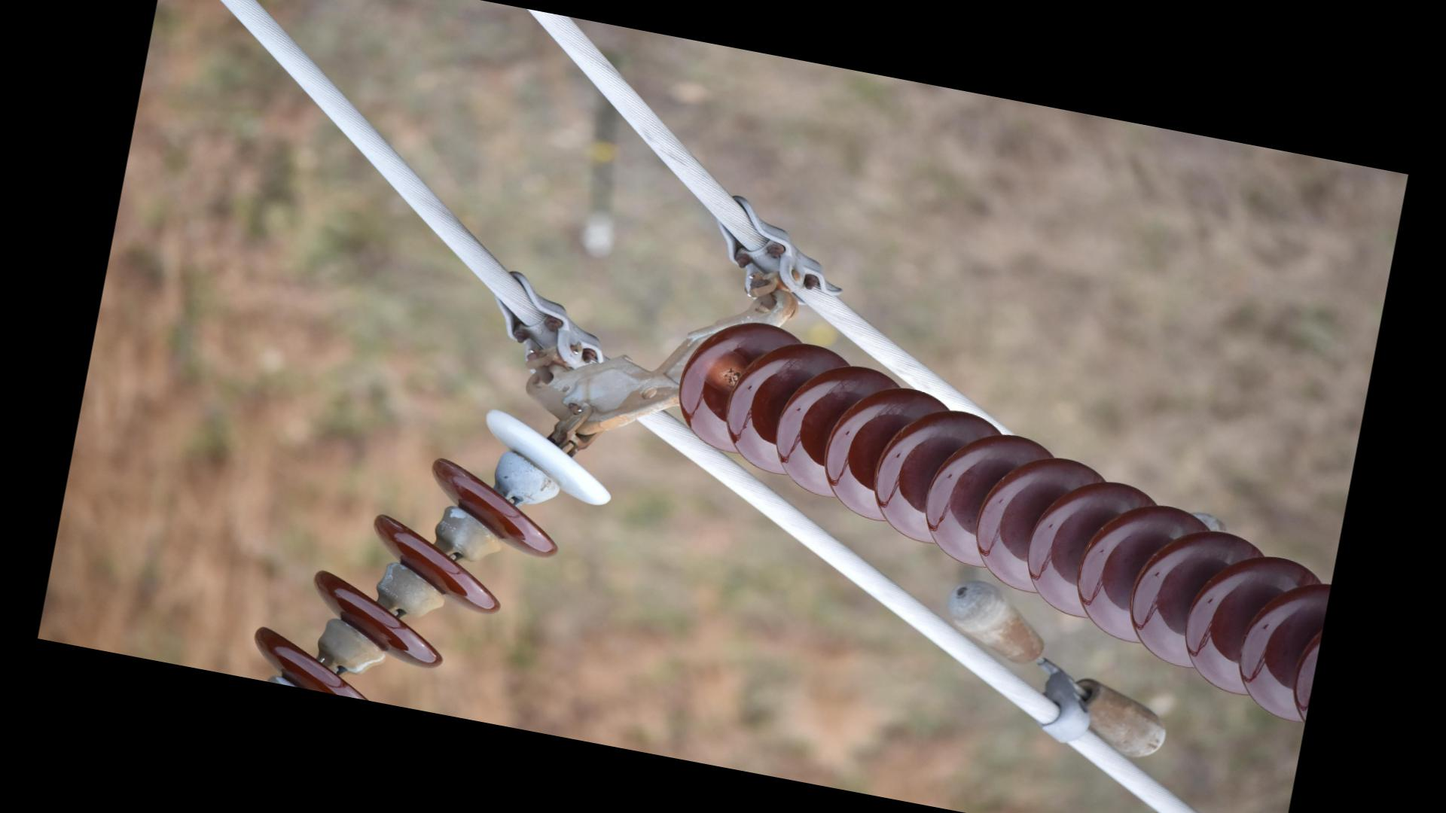damper: (916, 568, 1194, 775)
